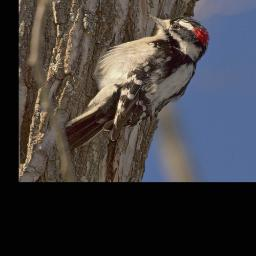Woodpecker: (64, 13, 210, 151)
